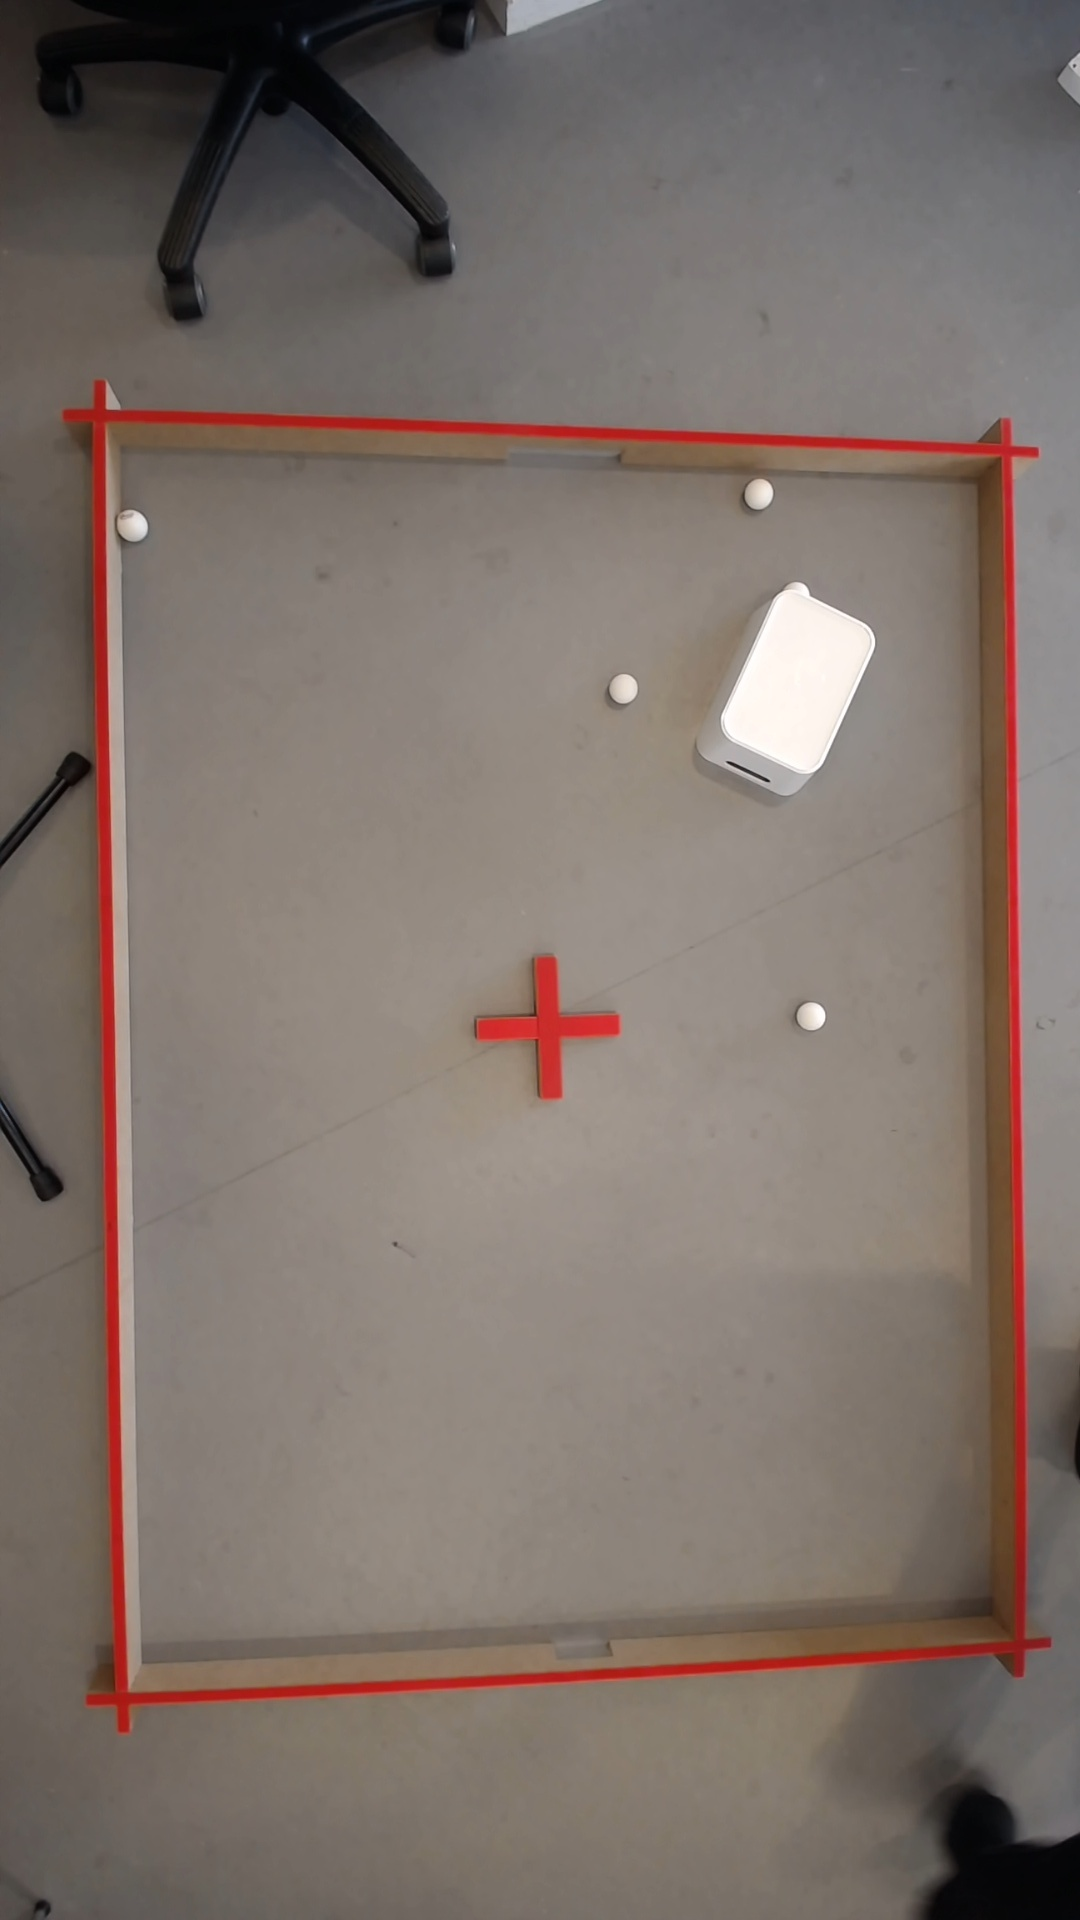balls: (711, 575, 886, 781), (120, 509, 152, 541), (611, 671, 641, 704), (798, 997, 828, 1030)
car: (750, 477, 777, 506)
